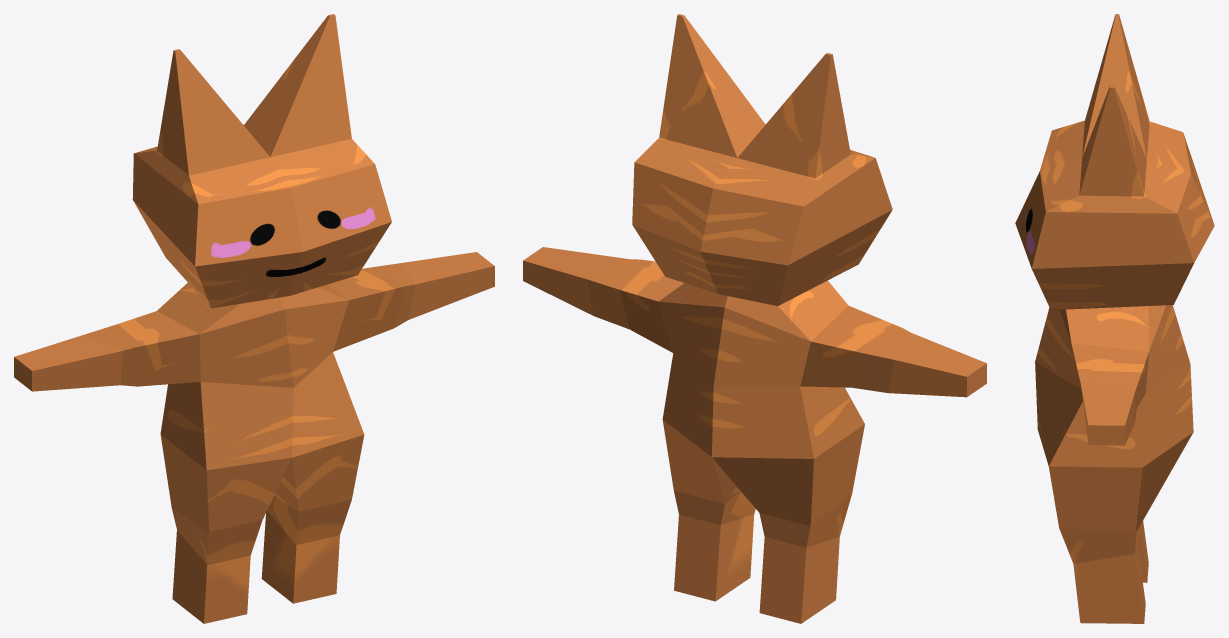
The model's file is KittyTemp.fbx.
3 renders of one model, left to right at view 1: azimuth 30°, elevation 25°; view 2: azimuth 150°, elevation 25°; view 3: azimuth 270°, elevation 25°, orthographic. The views are drawn at different scales.
Parts seen in each view (by area): view 1: Kitty; view 2: Kitty; view 3: Kitty.
Boxes of the visible parts, x1=… form: Kitty: x1=14, y1=14, x2=494, y2=623; Kitty: x1=523, y1=14, x2=986, y2=623; Kitty: x1=1015, y1=14, x2=1214, y2=623.
Bounding box in the file's own units: 337 × 398 × 133.
1 material, 1 textured.
